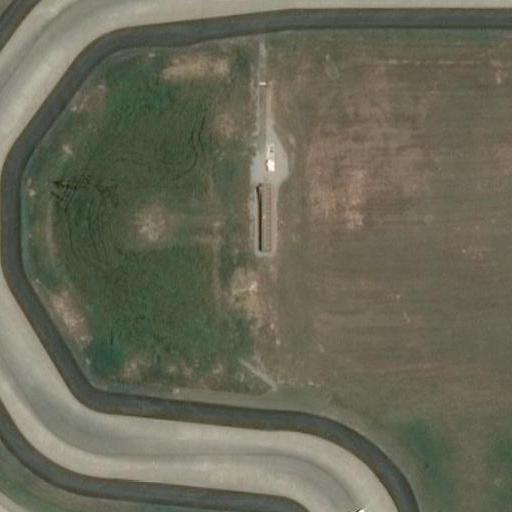Aircraft: (335, 506, 384, 512)
